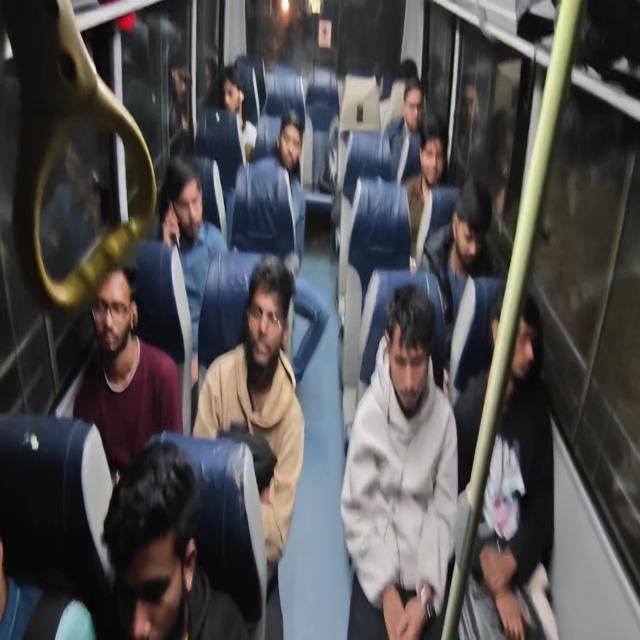person: (102, 437, 198, 640), (386, 277, 437, 422), (496, 268, 546, 407), (243, 240, 293, 379), (91, 242, 137, 366), (455, 170, 493, 273), (166, 147, 204, 243), (274, 92, 306, 188), (218, 56, 246, 127), (400, 67, 429, 133), (421, 118, 445, 187), (392, 38, 414, 92)
